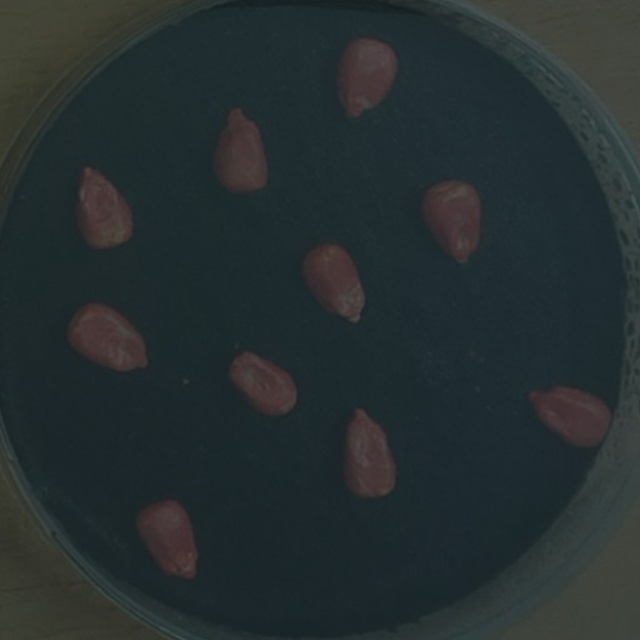Zea mays: (59, 295, 156, 379), (517, 378, 619, 457), (412, 171, 490, 274), (325, 30, 403, 130), (128, 491, 204, 590), (334, 401, 403, 507), (204, 100, 275, 202), (295, 237, 371, 332), (67, 160, 138, 259), (219, 342, 303, 425)
